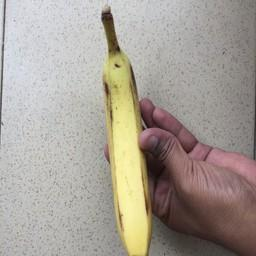Banana Ripe: (92, 10, 159, 256)
